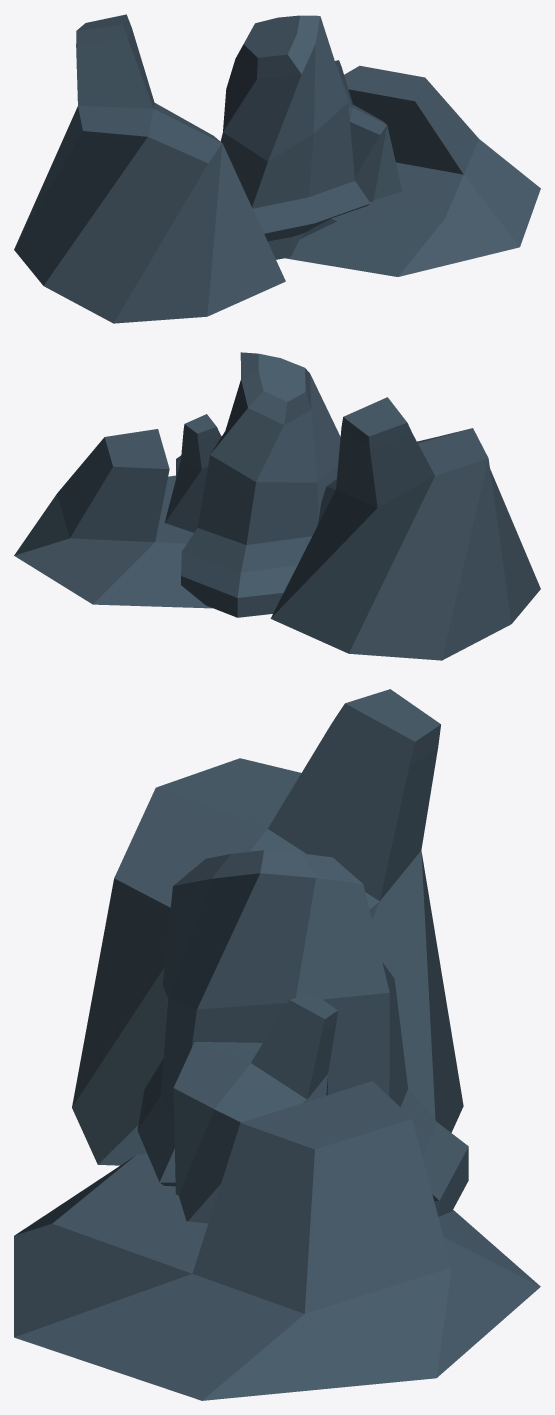
The model's file is rock-039.glb.
3 views of the same model, one above another, from view 1: azimuth 30°, elevation 25°; view 2: azimuth 150°, elevation 25°; view 3: azimuth 270°, elevation 25° (orthographic). The views are drawn at different scales.
Visible parts, largest first — view 1: Rock 6_540; view 2: Rock 6_540; view 3: Rock 6_540.
Part boxes in pixels (x1=…): Rock 6_540: x1=14, y1=14, x2=540, y2=323; Rock 6_540: x1=14, y1=352, x2=540, y2=660; Rock 6_540: x1=14, y1=689, x2=540, y2=1400.
Size of the model in its own units: 3.07 by 1.44 by 1.71.
